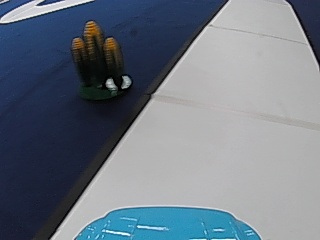corn: (71, 18, 129, 101)
